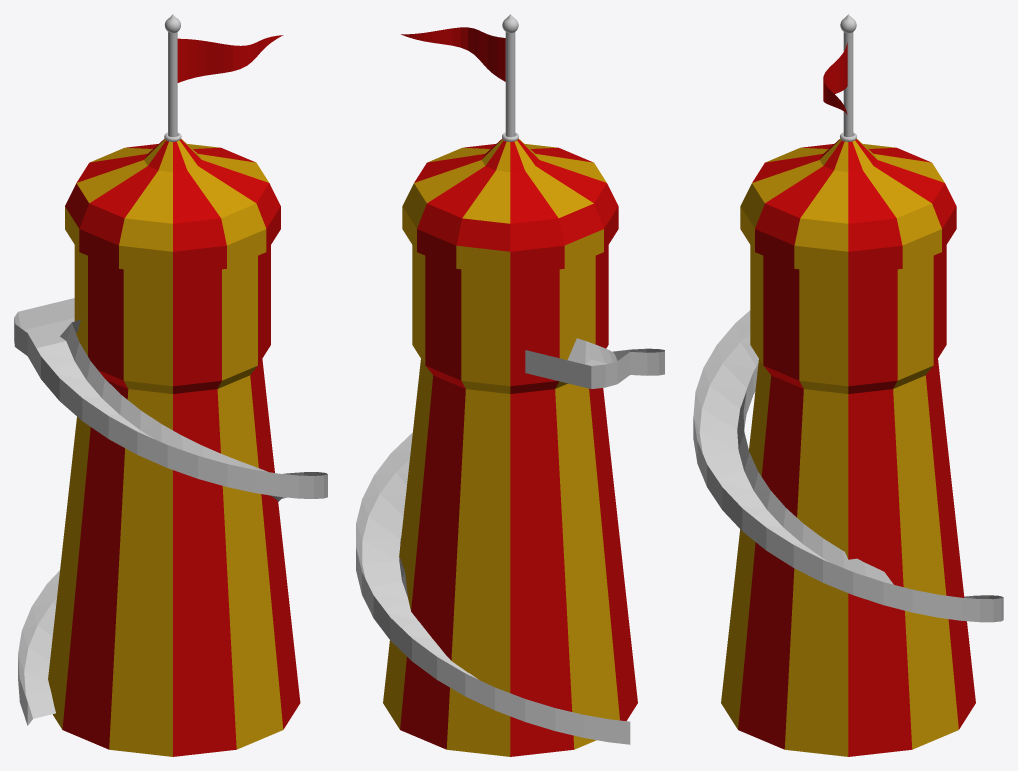
The model's file is tower.obj.
3 renders of one model, left to right at view 1: azimuth 30°, elevation 25°; view 2: azimuth 150°, elevation 25°; view 3: azimuth 270°, elevation 25°, orthographic.
Visible parts, largest first — view 1: Tower_Circle.001, Slide_Plane.001, Flag_Plane, SlideTop_Plane.002, Cylinder_Cylinder.002; view 2: Tower_Circle.001, Slide_Plane.001, SlideTop_Plane.002, Flag_Plane, Cylinder_Cylinder.002; view 3: Tower_Circle.001, Slide_Plane.001, Flag_Plane, Cylinder_Cylinder.002.
Boxes of the visible parts, x1,y1,x2,y2 form: Tower_Circle.001: (48, 138, 300, 756); Slide_Plane.001: (18, 322, 327, 725); Flag_Plane: (177, 35, 283, 82); SlideTop_Plane.002: (14, 298, 80, 355); Cylinder_Cylinder.002: (168, 32, 177, 136); Tower_Circle.001: (383, 139, 637, 756); Slide_Plane.001: (356, 341, 664, 744); SlideTop_Plane.002: (525, 338, 630, 388); Flag_Plane: (401, 27, 505, 81); Cylinder_Cylinder.002: (505, 32, 515, 136); Tower_Circle.001: (721, 139, 975, 756); Slide_Plane.001: (693, 310, 1003, 622); Flag_Plane: (823, 42, 847, 114); Cylinder_Cylinder.002: (843, 32, 853, 136).
Bounding box in the file's own units: 2.43 × 5.96 × 2.43.
